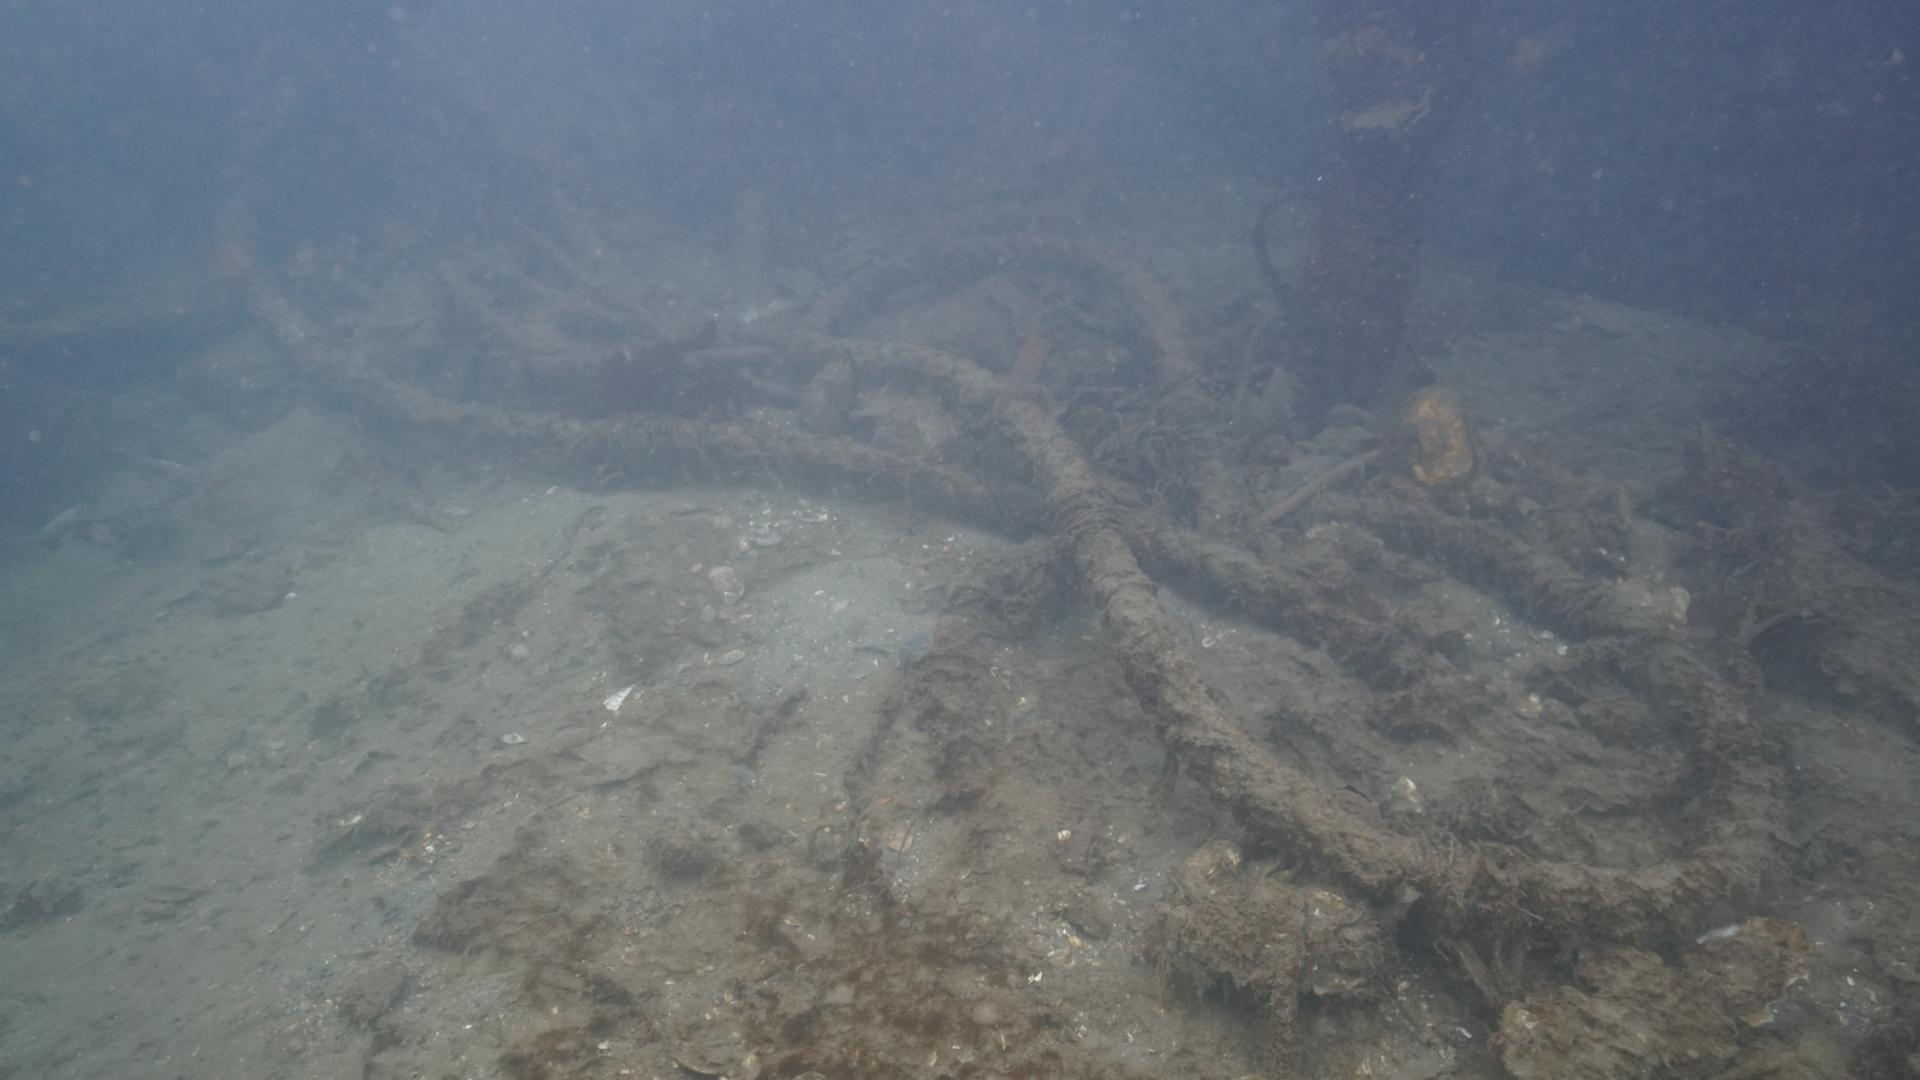bundle of ropes: (212, 58, 1807, 926)
